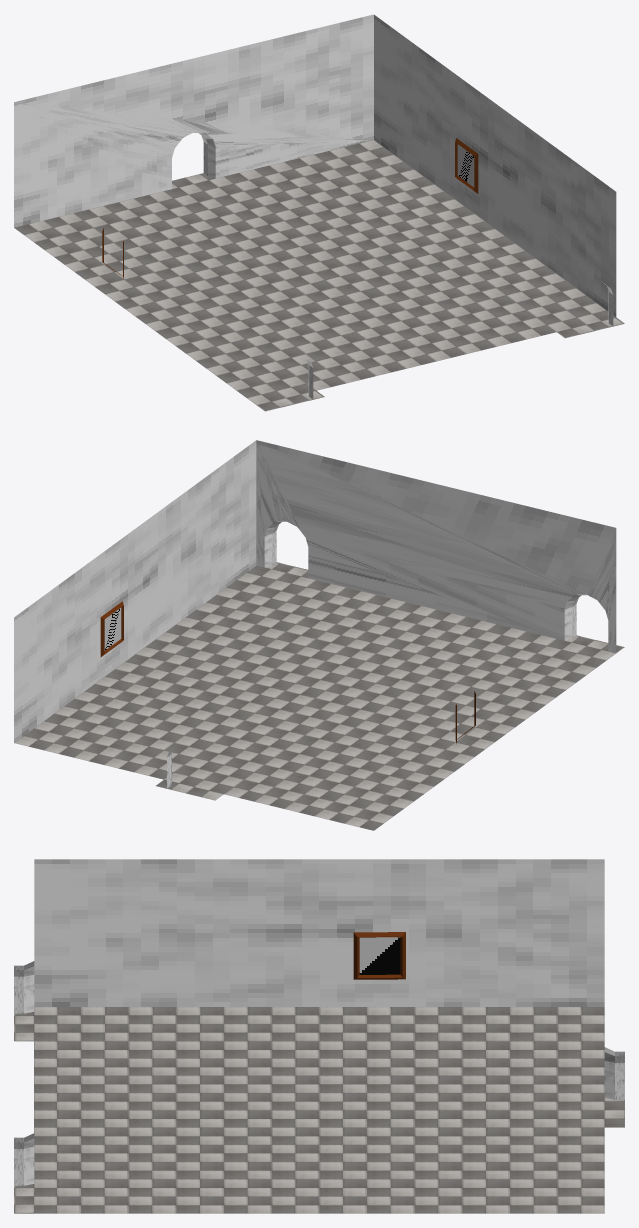
The model's file is Room15.glb.
3 renders of one model, top to bottom at view 1: azimuth 30°, elevation 25°; view 2: azimuth 150°, elevation 25°; view 3: azimuth 270°, elevation 25°, orthographic. The views are drawn at different scales.
Visible parts, largest first — view 1: Room15_Floor_Floor7, Room15_Walls_Wall714, Room15_Walls_Wall42, Canvas.002; view 2: Room15_Floor_Floor7, Room15_Walls_Wall715, Room15_Walls_Wall42, Canvas.002; view 3: Room15_Floor_Floor7, Room15_Walls_Wall27, Room15_Walls_Wall715, Canvas.001, Frame.004, Room15_Walls_Wall714.
Part boxes in pixels (box(x1,y1,x2,y2)): Room15_Floor_Floor7: box(14, 140, 624, 411); Room15_Walls_Wall714: box(14, 14, 373, 227); Room15_Walls_Wall42: box(374, 15, 616, 316); Canvas.002: box(457, 144, 474, 187); Room15_Floor_Floor7: box(14, 562, 624, 830); Room15_Walls_Wall715: box(256, 440, 616, 653); Room15_Walls_Wall42: box(14, 440, 256, 742); Canvas.002: box(104, 608, 121, 650); Room15_Floor_Floor7: box(14, 1007, 624, 1213); Room15_Walls_Wall27: box(34, 859, 604, 1006); Room15_Walls_Wall715: box(14, 961, 34, 1185); Canvas.001: box(359, 937, 400, 974); Frame.004: box(353, 932, 405, 979); Room15_Walls_Wall714: box(604, 1047, 624, 1099).
Size of the model in its own units: 12 by 4 by 15.
Materials: 10 (8 with a texture image).
